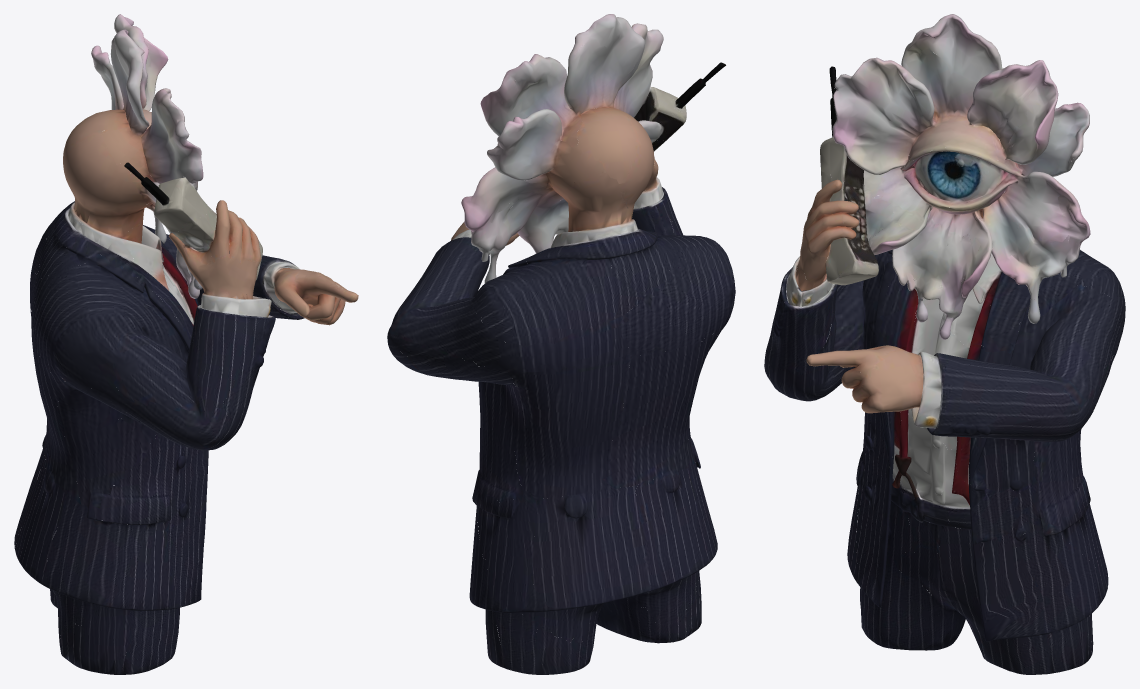
Rendered from broker.glb.
3 views of the same model, side by side, from view 1: azimuth 30°, elevation 25°; view 2: azimuth 150°, elevation 25°; view 3: azimuth 270°, elevation 25° (orthographic). The views are drawn at different scales.
Visible parts, largest first — view 1: tripo_node_dc92663d-ffc9-4d0f-b94a-6544d8566fac; view 2: tripo_node_dc92663d-ffc9-4d0f-b94a-6544d8566fac; view 3: tripo_node_dc92663d-ffc9-4d0f-b94a-6544d8566fac.
Part boxes in pixels (x1,y1,x2,y2): tripo_node_dc92663d-ffc9-4d0f-b94a-6544d8566fac: (14, 14, 358, 674); tripo_node_dc92663d-ffc9-4d0f-b94a-6544d8566fac: (387, 14, 735, 674); tripo_node_dc92663d-ffc9-4d0f-b94a-6544d8566fac: (764, 14, 1125, 674).
Size of the model in its own units: 0.4889 by 1 by 0.5243.
Materials: 1 (1 with a texture image).
